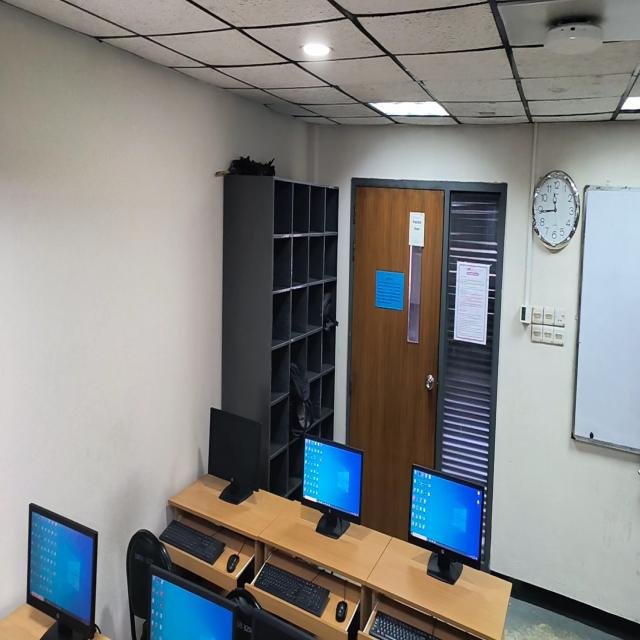Chair: (126, 530, 173, 639)
Keyboard: (254, 562, 329, 616), (159, 520, 225, 565), (369, 611, 438, 639)
Light: (370, 101, 447, 116), (302, 43, 330, 57), (621, 97, 640, 110)
Monitor: (409, 464, 484, 584), (29, 510, 93, 625), (146, 565, 235, 639), (303, 434, 363, 539), (208, 408, 261, 504)
Mouse: (336, 600, 347, 622), (227, 554, 239, 572)
